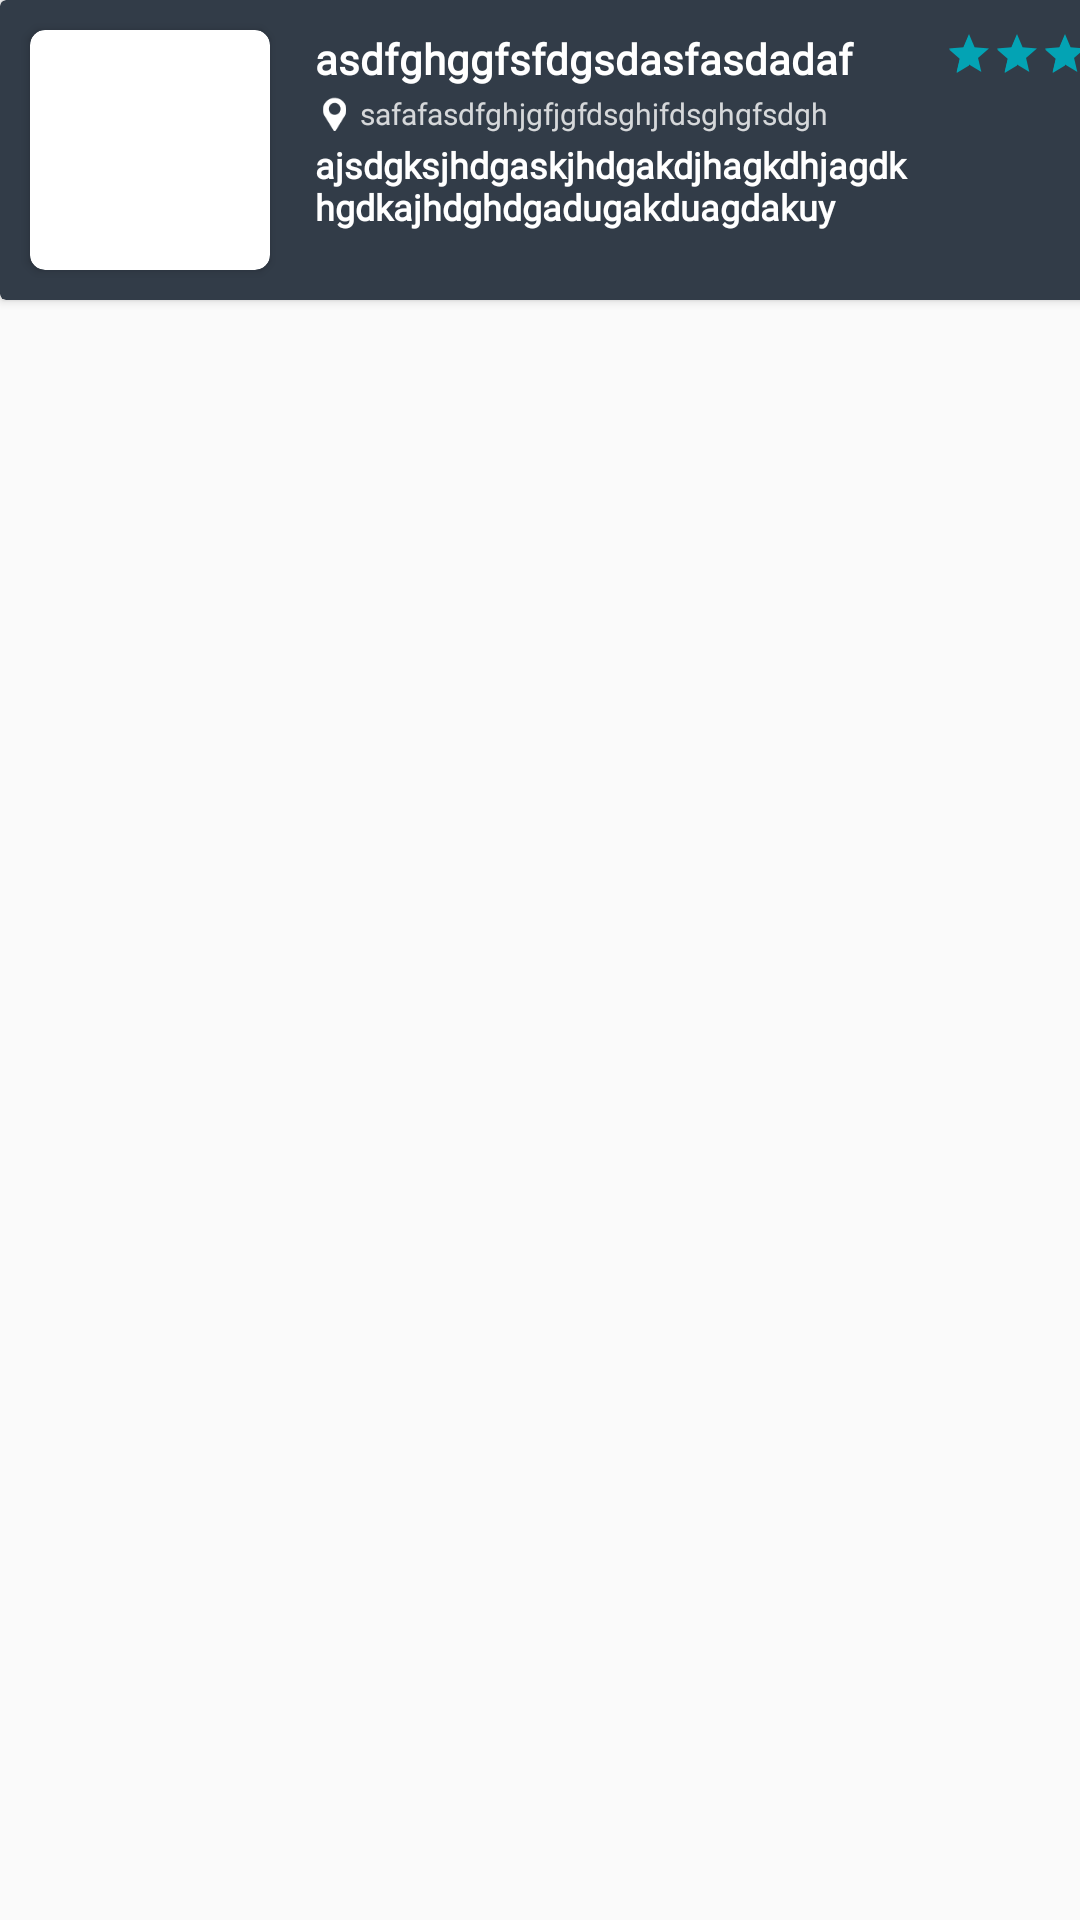

Icon bounding boxes for this 1080px×1920px phone screenshot, format [x1=x1, y1=y1, x2=x2, y2=y2]:
location: [x1=323, y1=97, x2=346, y2=131]
